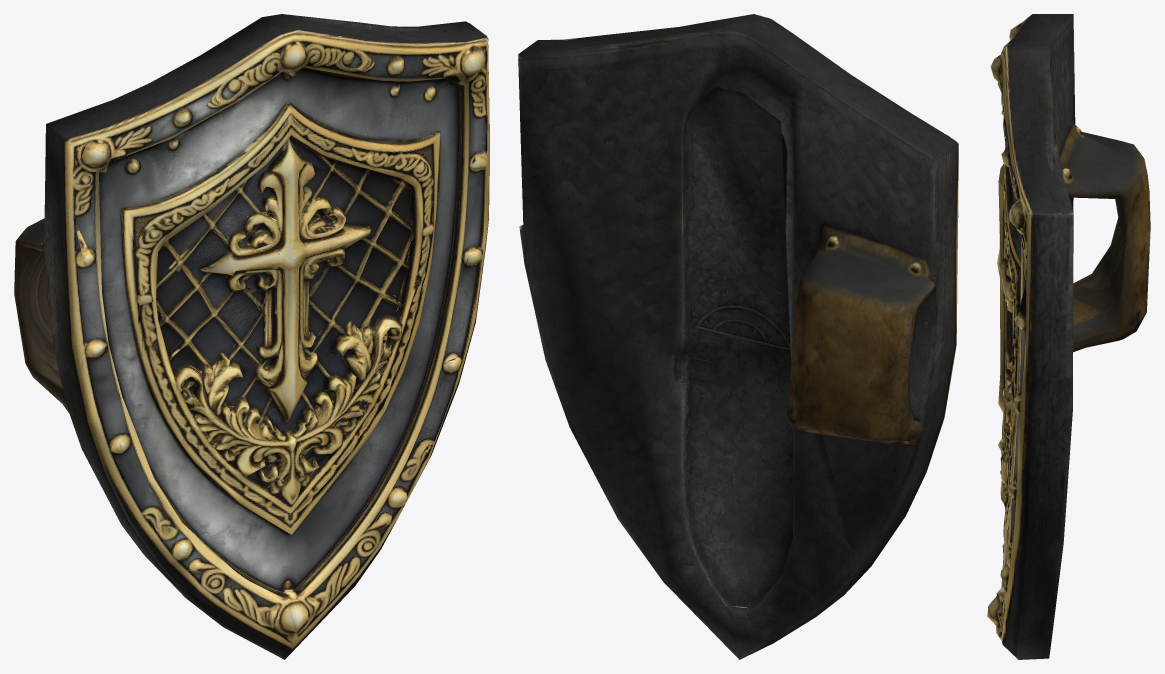
The model's file is Rare.glb.
3 renders of one model, left to right at view 1: azimuth 30°, elevation 25°; view 2: azimuth 150°, elevation 25°; view 3: azimuth 270°, elevation 25°, orthographic. The views are drawn at different scales.
Visible parts, largest first — view 1: Mesh1.0; view 2: Mesh1.0; view 3: Mesh1.0.
Part boxes in pixels (x1,y1,x2,y2): Mesh1.0: (14, 14, 489, 659); Mesh1.0: (518, 14, 958, 659); Mesh1.0: (987, 14, 1150, 659).
Bounding box in the file's own units: 1.35 × 1.91 × 0.4625.
1 material, 1 textured.
